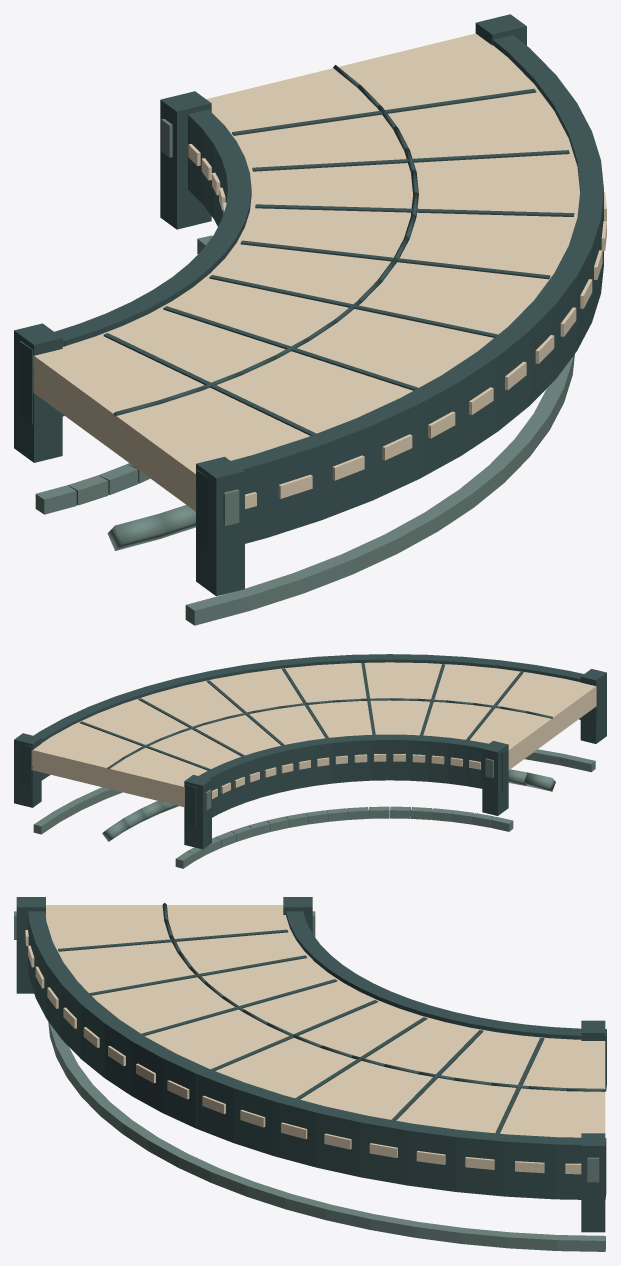
File: Curve_90_lab2.glb
The picture shows the model from 3 angles, top to bottom: view 1: azimuth 30°, elevation 25°; view 2: azimuth 150°, elevation 25°; view 3: azimuth 270°, elevation 25°; orthographic projection. The views are drawn at different scales.
Visible parts, largest first — view 1: Curve_90; view 2: Curve_90; view 3: Curve_90.
Boxes of the visible parts, x1,y1,x2,y2 form: Curve_90: [14, 14, 606, 625]; Curve_90: [14, 654, 606, 868]; Curve_90: [14, 897, 606, 1251].
Size of the model in its own units: 6.85 by 1.52 by 6.85.
